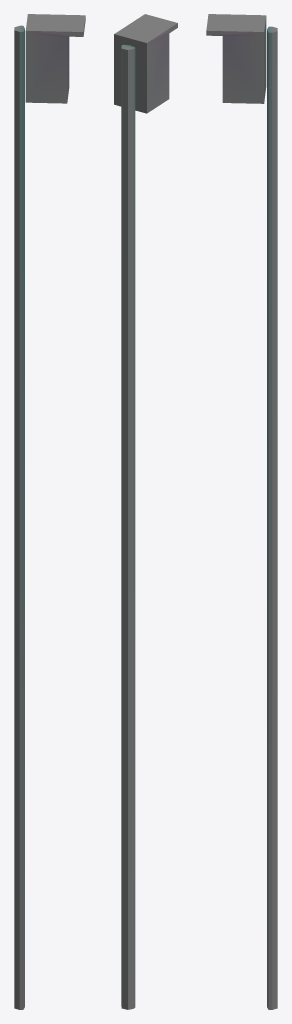
3 renders of one model, left to right at view 1: azimuth 90°, elevation 25°; view 2: azimuth 150°, elevation 25°; view 3: azimuth 270°, elevation 25°, orthographic.
Parts seen in each view (by area): view 1: shaft, head_body; view 2: shaft, head_body; view 3: shaft, head_body.
Boxes of the visible parts, left/top/right/bottom form: shaft: left=14, top=25, right=24, bottom=1009; head_body: left=25, top=14, right=85, bottom=103; shaft: left=121, top=44, right=135, bottom=1009; head_body: left=114, top=14, right=177, bottom=113; shaft: left=267, top=26, right=277, bottom=1009; head_body: left=206, top=14, right=266, bottom=103.
Size of the model in its own units: 0.0118 by 0.2999 by 0.0197.
